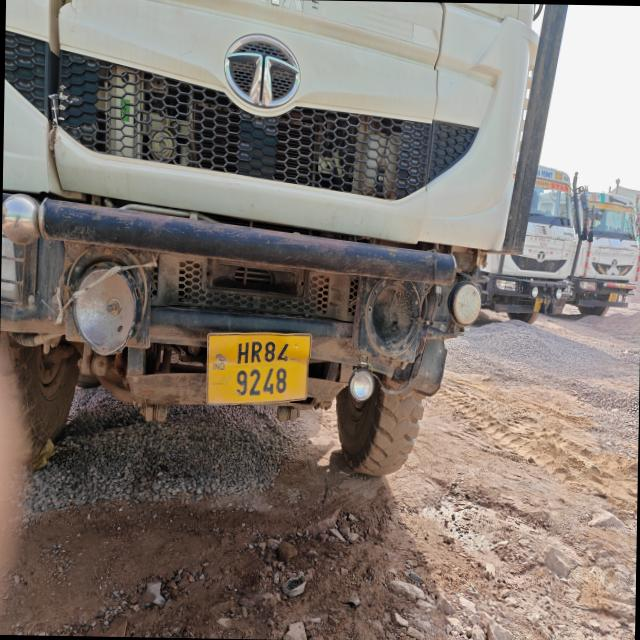license_plate: (207, 333, 310, 404), (534, 299, 543, 312), (609, 294, 618, 302)
